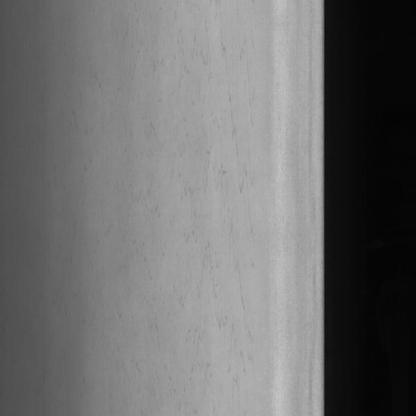silk_spot: (141, 26, 259, 365)
